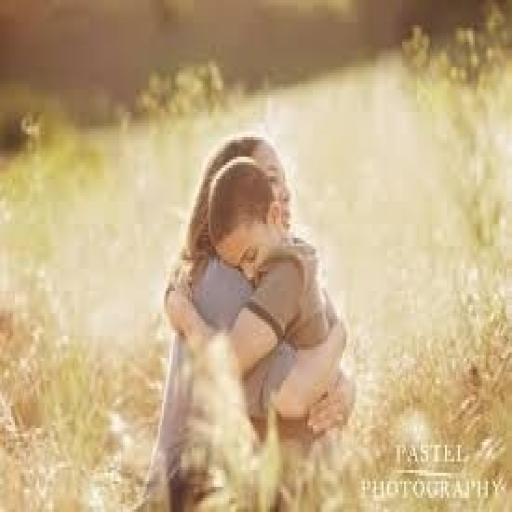hugging: (142, 129, 356, 509)
